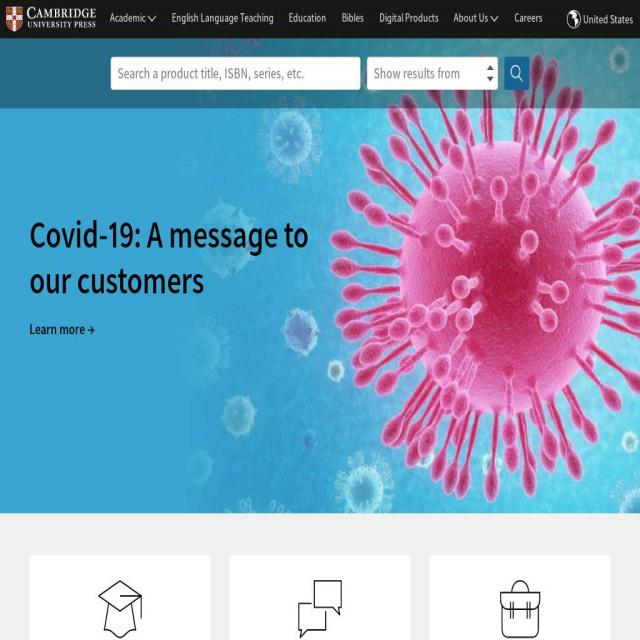language: (565, 7, 640, 35)
navigation-links: (105, 7, 550, 35)
search: (104, 48, 535, 108)
